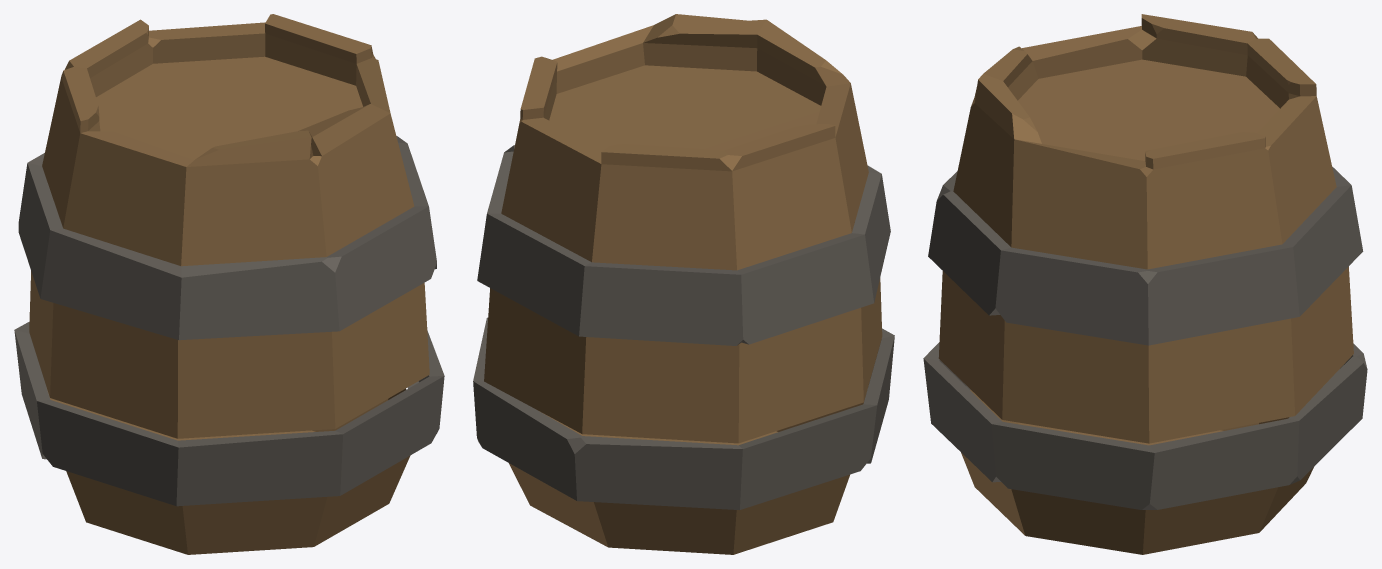
The model's file is Barrel_1.fbx.
3 renders of one model, left to right at view 1: azimuth 30°, elevation 25°; view 2: azimuth 150°, elevation 25°; view 3: azimuth 270°, elevation 25°, orthographic.
Parts seen in each view (by area): view 1: Barrel_1; view 2: Barrel_1; view 3: Barrel_1.
Boxes of the visible parts, x1,y1,x2,y2 form: Barrel_1: (14, 14, 444, 554); Barrel_1: (473, 14, 894, 554); Barrel_1: (923, 14, 1367, 554).
Bounding box in the file's own units: 74.11 × 75.76 × 73.86.
